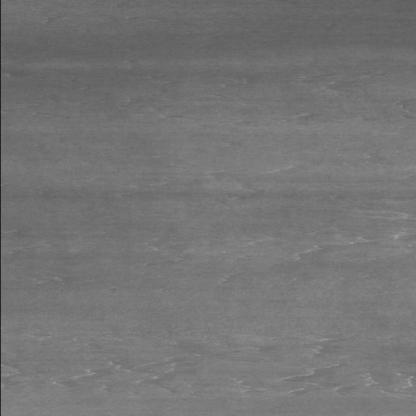silk_spot: (48, 327, 371, 396), (200, 205, 414, 262)
